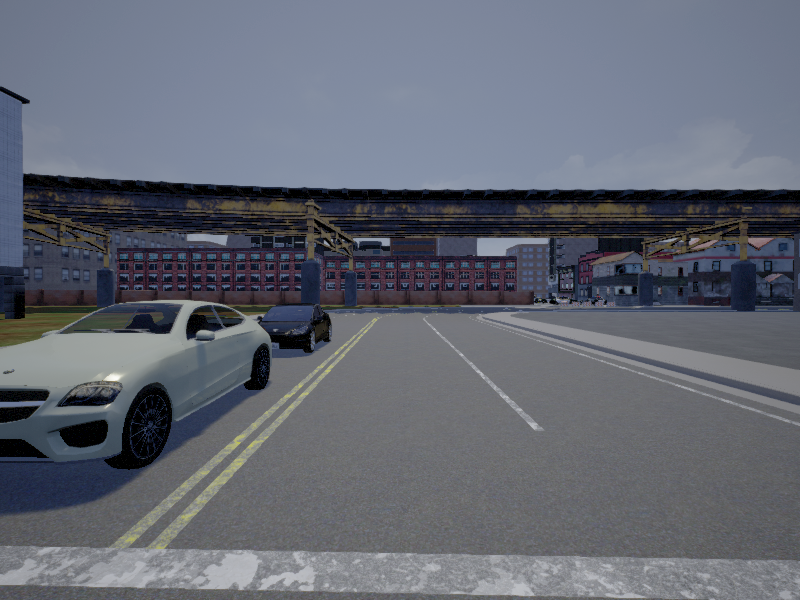Benign: (1, 298, 273, 465), (260, 303, 332, 353)
